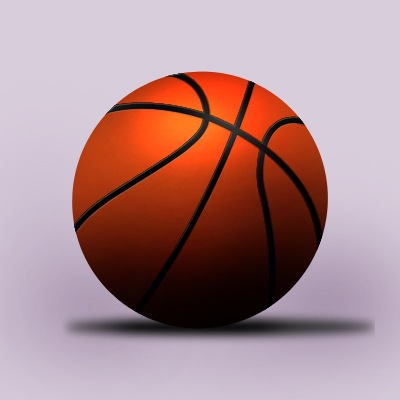basketball: (72, 70, 331, 327)
